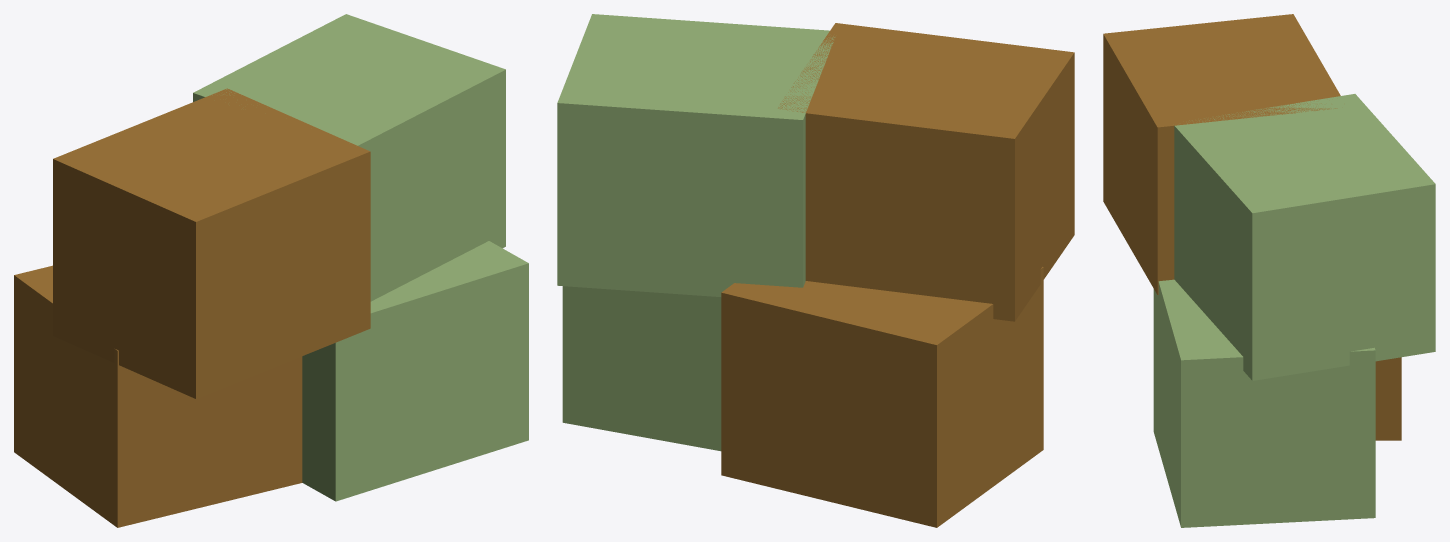
File: field_crate.glb
The picture shows the model from 3 angles, left to right: view 1: azimuth 30°, elevation 25°; view 2: azimuth 150°, elevation 25°; view 3: azimuth 270°, elevation 25°; orthographic projection. The views are drawn at different scales.
Visible parts, largest first — view 1: crate_2, crate_3, crate_1, crate_0; view 2: crate_2, crate_3, crate_0, crate_1; view 3: crate_3, crate_1, crate_2, crate_0.
Boxes of the visible parts, bbox=[...] form: crate_2: bbox=[53, 88, 370, 398]; crate_3: bbox=[193, 14, 505, 301]; crate_1: bbox=[302, 241, 528, 501]; crate_0: bbox=[14, 265, 302, 527]; crate_2: bbox=[778, 23, 1074, 321]; crate_3: bbox=[557, 14, 835, 296]; crate_0: bbox=[721, 267, 1043, 527]; crate_1: bbox=[562, 286, 721, 451]; crate_3: bbox=[1174, 94, 1435, 380]; crate_1: bbox=[1153, 279, 1375, 527]; crate_2: bbox=[1103, 14, 1340, 294]; crate_0: bbox=[1375, 357, 1401, 440].
Size of what is drawn, in the model's own units: 2.17 by 1.63 by 1.53.
